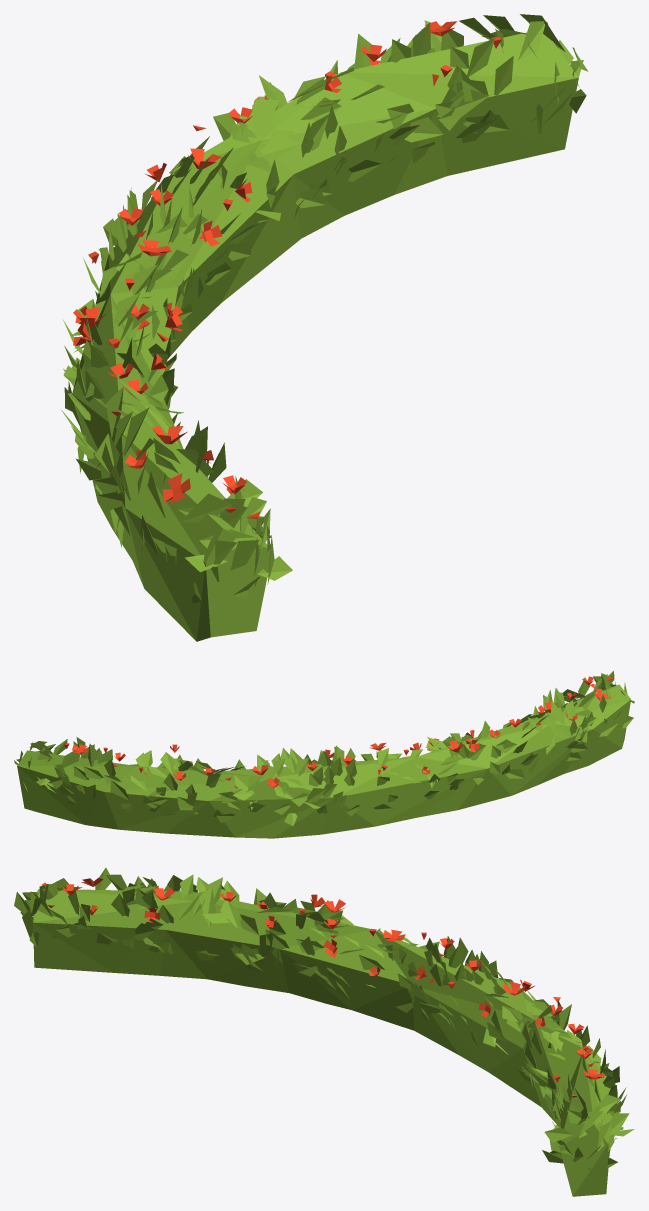
File: SM_Fence_Hedge_City_Short_Flower_Corner_3m.fbx
3 views of the same model, one above another, from view 1: azimuth 30°, elevation 25°; view 2: azimuth 150°, elevation 25°; view 3: azimuth 270°, elevation 25° (orthographic). The views are drawn at different scales.
Visible parts, largest first — view 1: SM_Fence_Hedge_City_Short_Flower_Corner_3m; view 2: SM_Fence_Hedge_City_Short_Flower_Corner_3m; view 3: SM_Fence_Hedge_City_Short_Flower_Corner_3m.
Boxes of the visible parts, x1,y1,x2,y2 form: SM_Fence_Hedge_City_Short_Flower_Corner_3m: [61, 14, 588, 641]; SM_Fence_Hedge_City_Short_Flower_Corner_3m: [14, 671, 634, 838]; SM_Fence_Hedge_City_Short_Flower_Corner_3m: [14, 867, 634, 1196].
Bounding box in the file's own units: 3.35 × 0.6275 × 3.4.
